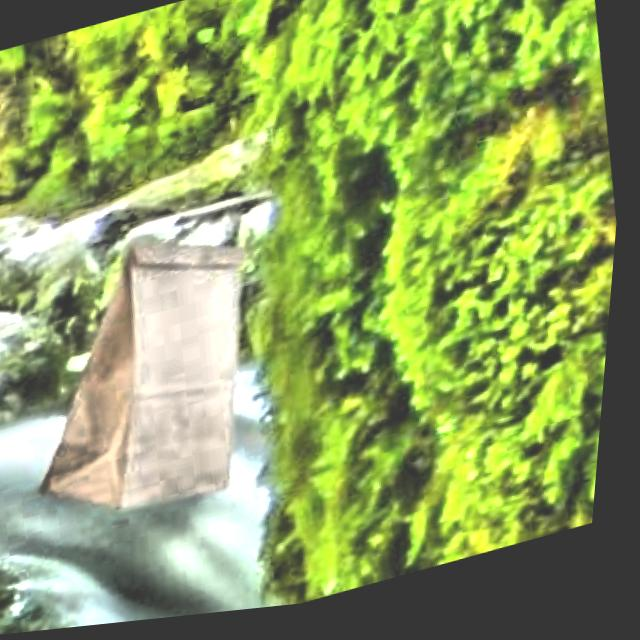Paper-bag: (5, 206, 301, 558)
